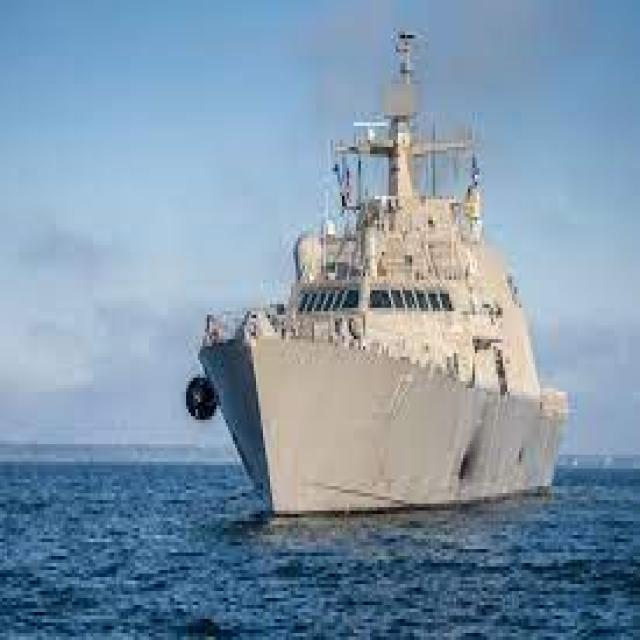navalvessels: (164, 35, 577, 538)
